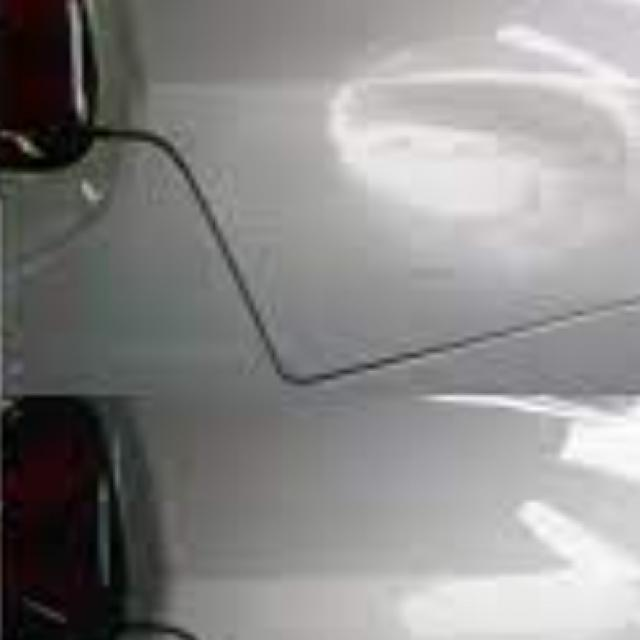dents: (329, 37, 640, 260)
